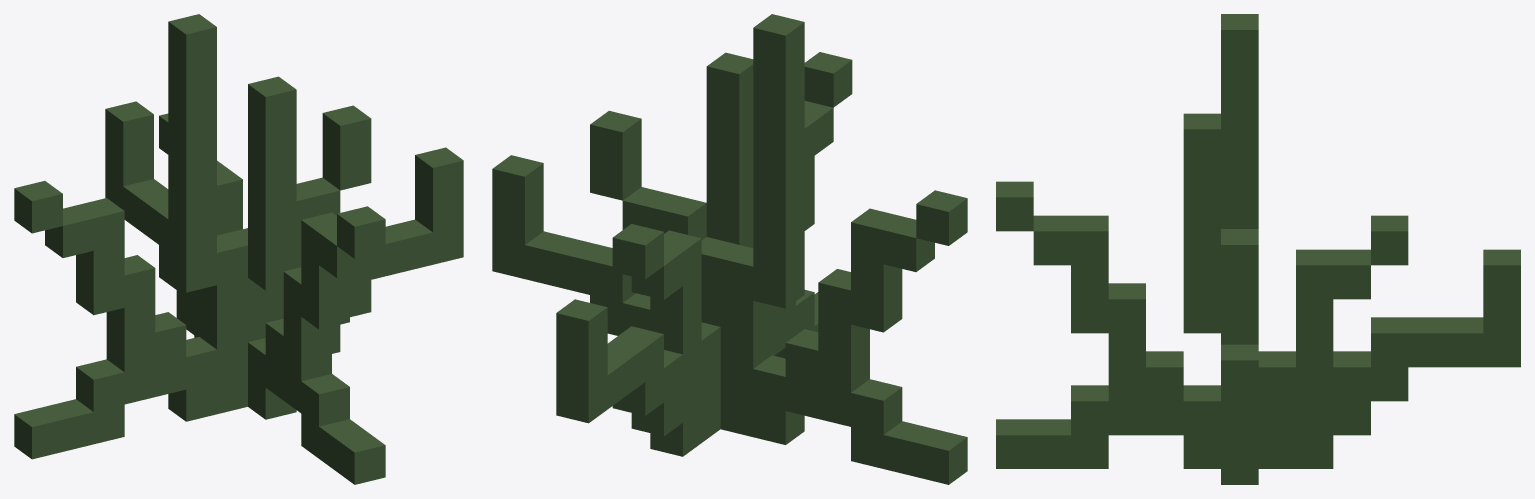
File: forest1.2-23.obj
3 renders of one model, left to right at view 1: azimuth 30°, elevation 25°; view 2: azimuth 150°, elevation 25°; view 3: azimuth 270°, elevation 25°, orthographic. The views are drawn at different scales.
Size of the model in its own units: 1.4 by 1.2 by 1.4.
1 material, 1 textured.
